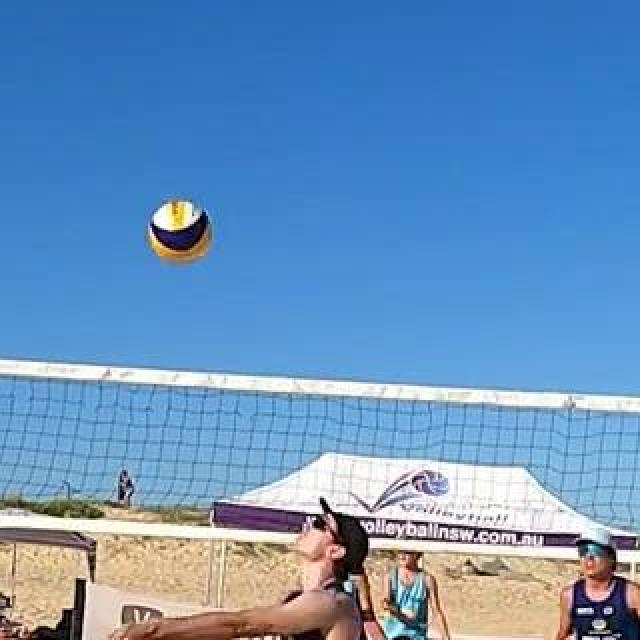volleyball: (150, 201, 210, 261)
